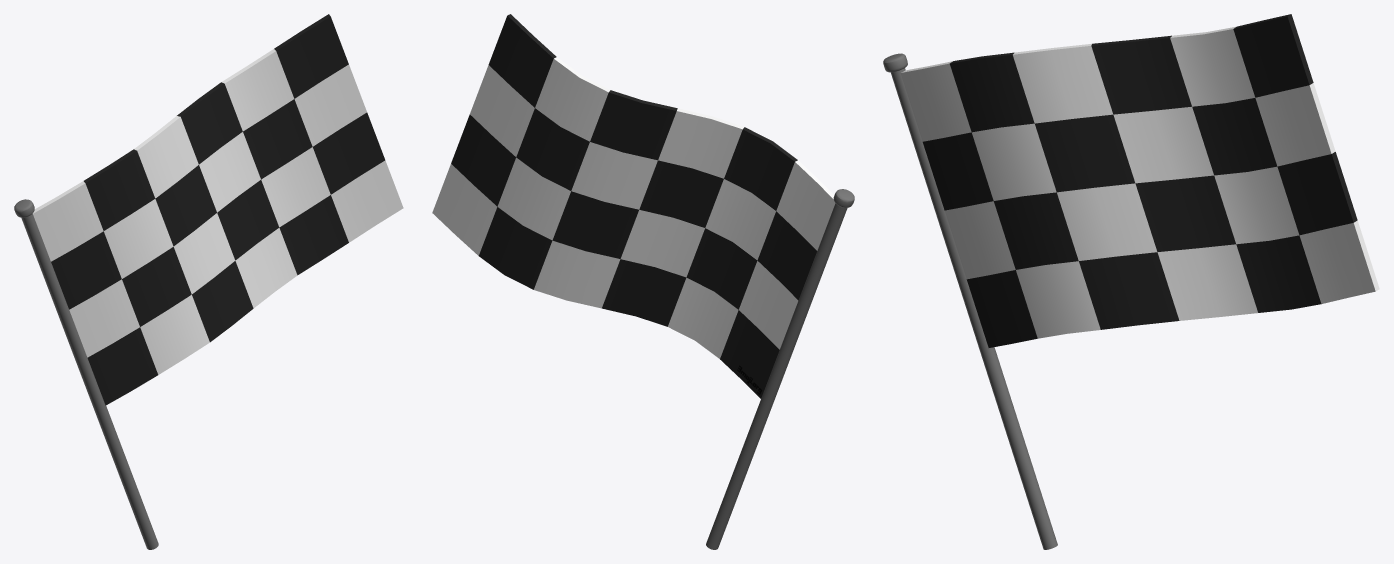
The model's file is chequered_flag.fbx.
The picture shows the model from 3 angles, left to right: view 1: azimuth 30°, elevation 25°; view 2: azimuth 150°, elevation 25°; view 3: azimuth 330°, elevation 25°; orthographic projection. The views are drawn at different scales.
Visible parts, largest first — view 1: chequered_flag; view 2: chequered_flag; view 3: chequered_flag.
Boxes of the visible parts, x1,y1,x2,y2 form: chequered_flag: [14, 14, 403, 549]; chequered_flag: [432, 14, 854, 549]; chequered_flag: [883, 14, 1379, 549].
Size of the model in its own units: 207 by 239 by 24.02.
1 material, 1 textured.
